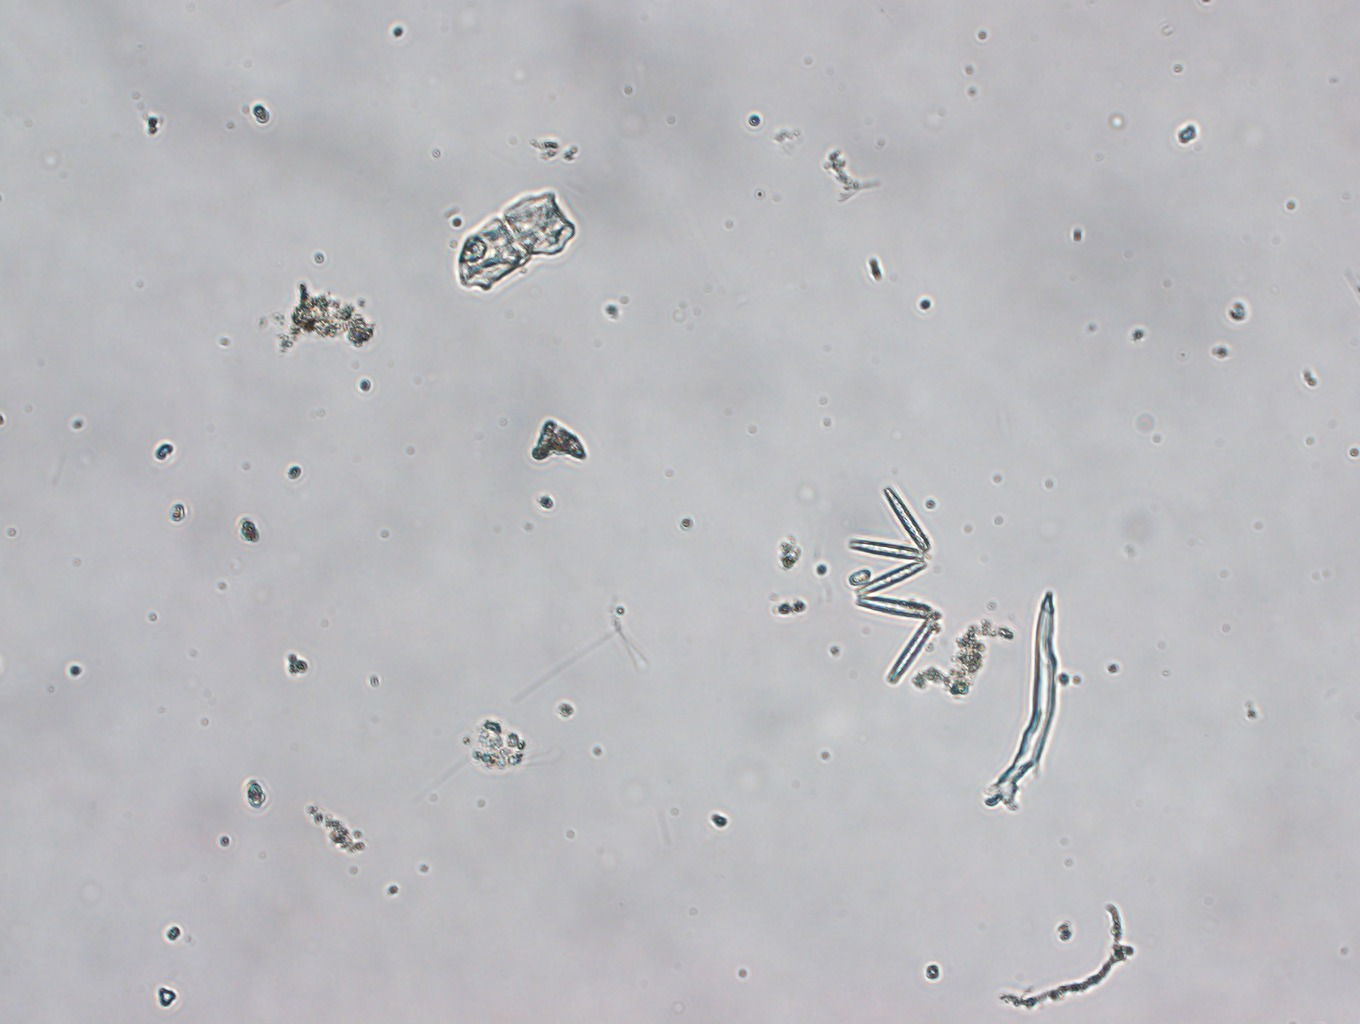thalassionema nitzschioides: (848, 483, 944, 692)
